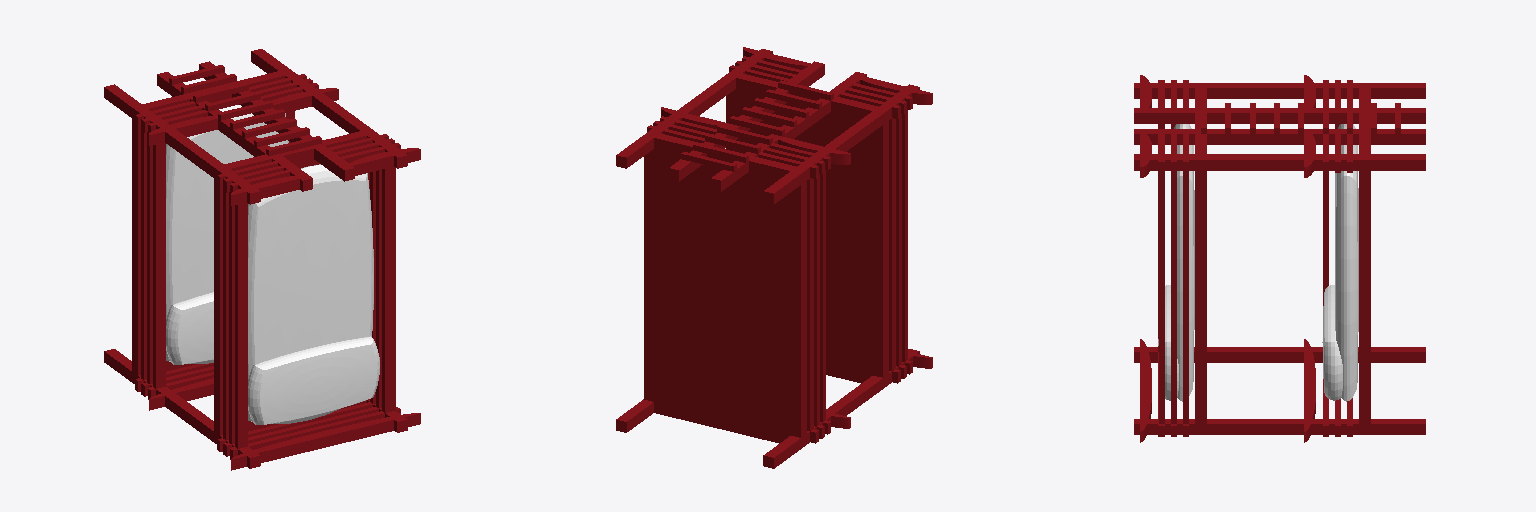
Rendered from tinker.obj.
3 renders of one model, left to right at view 1: azimuth 30°, elevation 25°; view 2: azimuth 150°, elevation 25°; view 3: azimuth 270°, elevation 25°, orthographic.
Parts seen in each view (by area): view 1: obj_0; view 2: obj_0; view 3: obj_0.
Boxes of the visible parts, <box> form: obj_0: <box>104,49,420,470</box>; obj_0: <box>616,47,932,468</box>; obj_0: <box>1134,75,1425,442</box>.
Bounding box in the file's own units: 36 × 51 × 48.